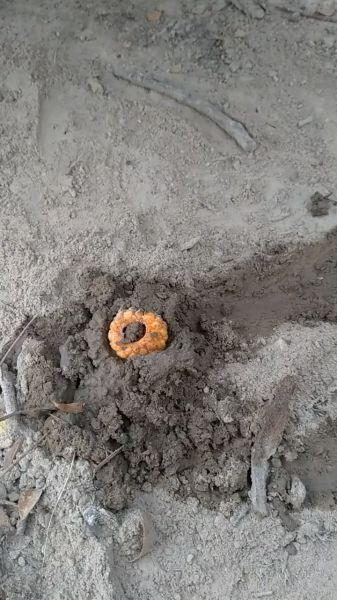eggs: (106, 305, 173, 364)
